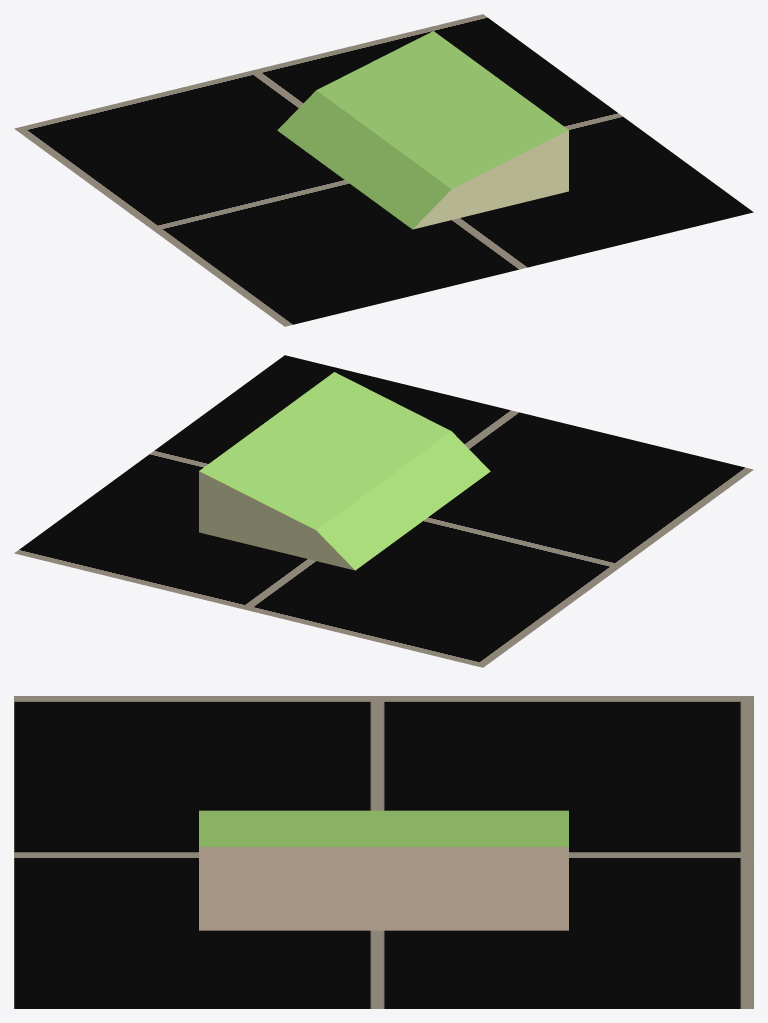
The model's file is Grass_Carpet_Straight_1x1.glb.
3 renders of one model, top to bottom at view 1: azimuth 30°, elevation 25°; view 2: azimuth 150°, elevation 25°; view 3: azimuth 270°, elevation 25°, orthographic. The views are drawn at different scales.
Parts seen in each view (by area): view 1: Floor, Grass_Carpet_Straight_1x1; view 2: Floor, Grass_Carpet_Straight_1x1; view 3: Floor, Grass_Carpet_Straight_1x1.
Boxes of the visible parts, x1,y1,x2,y2 form: Floor: [14, 14, 753, 326]; Grass_Carpet_Straight_1x1: [277, 31, 568, 229]; Floor: [14, 355, 753, 667]; Grass_Carpet_Straight_1x1: [199, 372, 490, 570]; Floor: [14, 696, 753, 1008]; Grass_Carpet_Straight_1x1: [199, 810, 568, 930].
Size of the model in its own units: 200 by 25 by 200.
5 materials, 1 textured.
